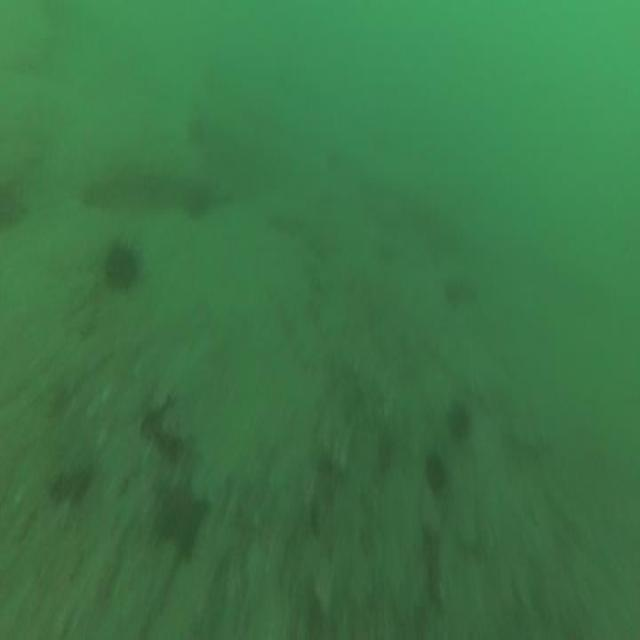echinus: (103, 242, 136, 288), (448, 398, 468, 441), (447, 272, 472, 306), (423, 447, 443, 487)
starfish: (153, 472, 207, 561)
